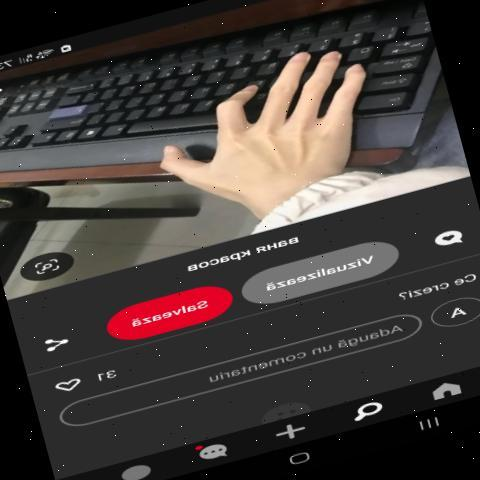Hands: (146, 33, 391, 205)
